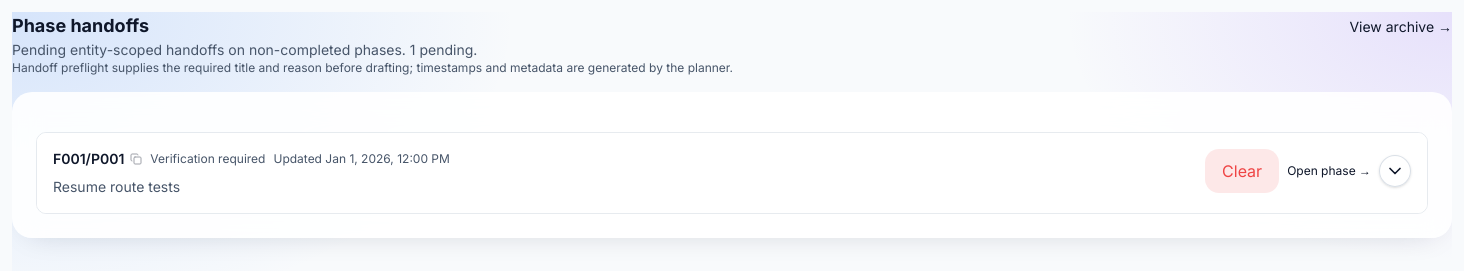
Test: handoff and requirement routes › clears a pending handoff, removes it locally, and keeps archives separate
The width and height of the screenshot is (1464, 271).
Expected: the text "Handoff preflight supplies the required title and reason" is shown, [12,60,733,75]
Click the button "Clear": (1242, 171) [1205,149,1279,193]
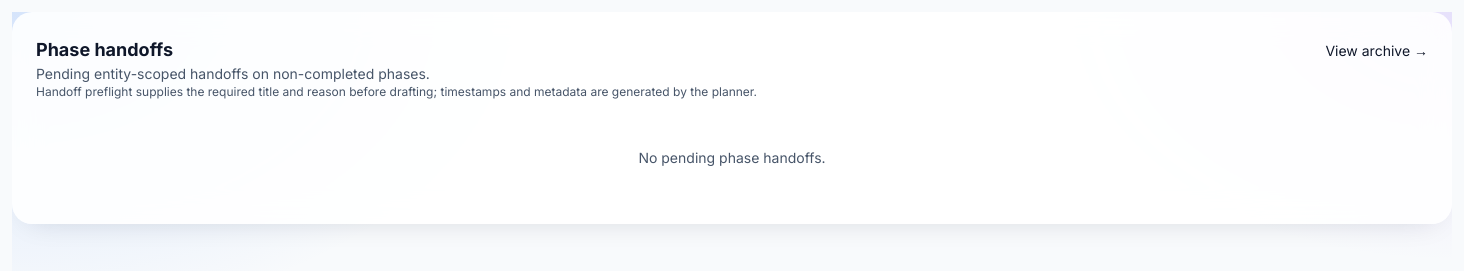
Now the text "No pending phase handoffs." is shown, box [638,149,826,166]
